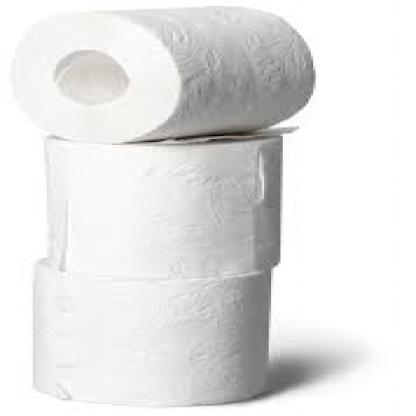tissue: (7, 10, 320, 140), (20, 264, 290, 406)
